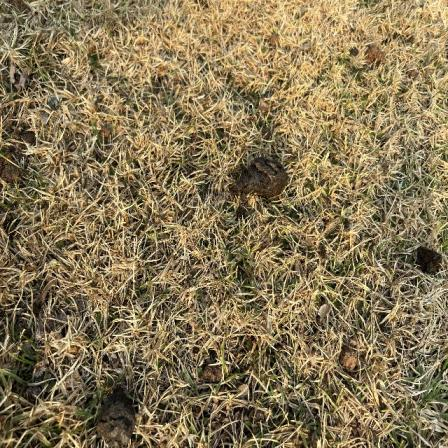dog-poop: (232, 157, 288, 203)
